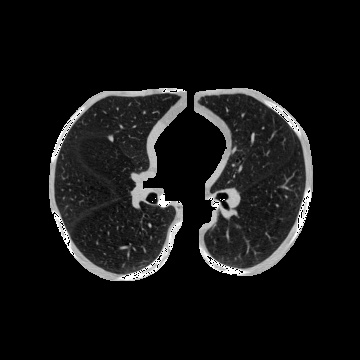PN: (109, 136, 113, 140)
